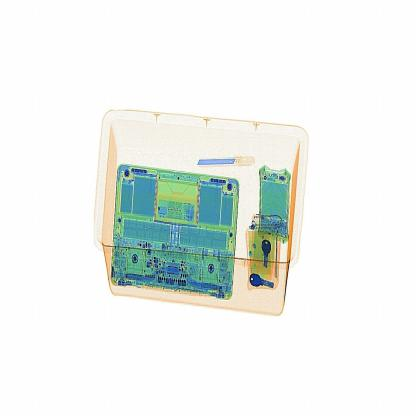pliers: (194, 150, 256, 174)
